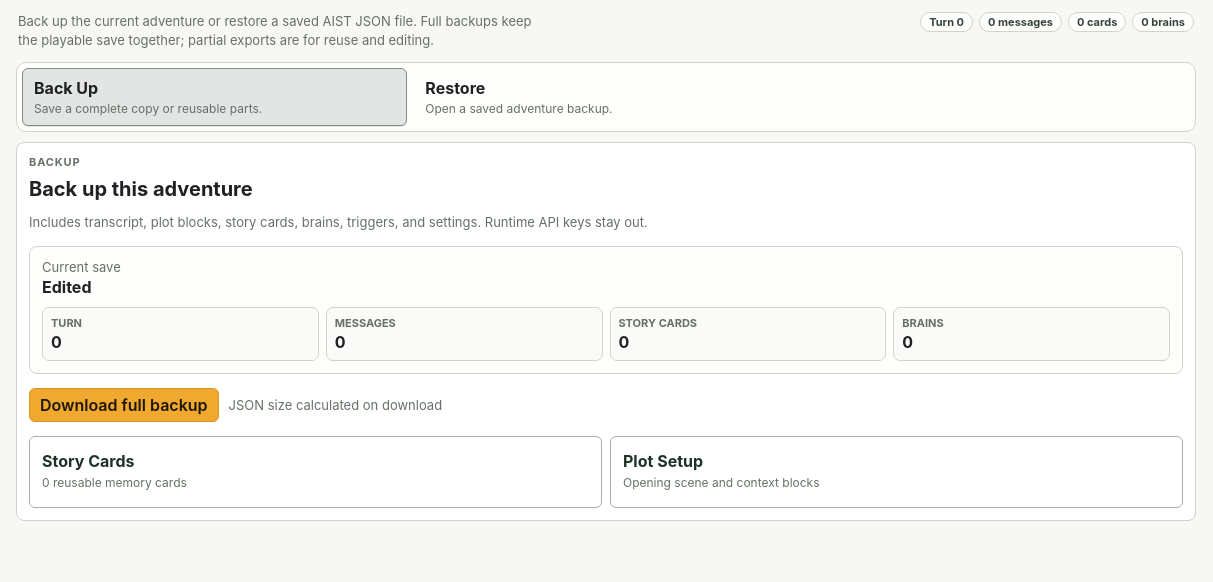
Test: serializes only for an explicitly requested backup, including after unrelated renders
The image size is (1213, 582).
Click the button "Download full backup": (124, 404) 29,388 -> 218,422
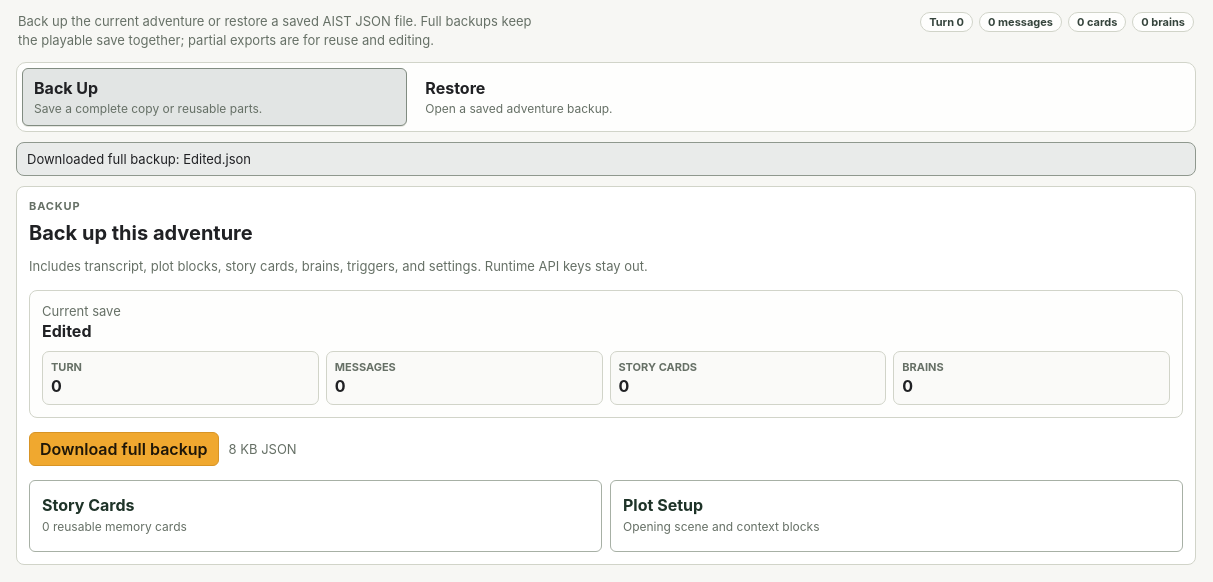
Expected: the text "8 KB JSON" is shown, 228,440 -> 297,456
